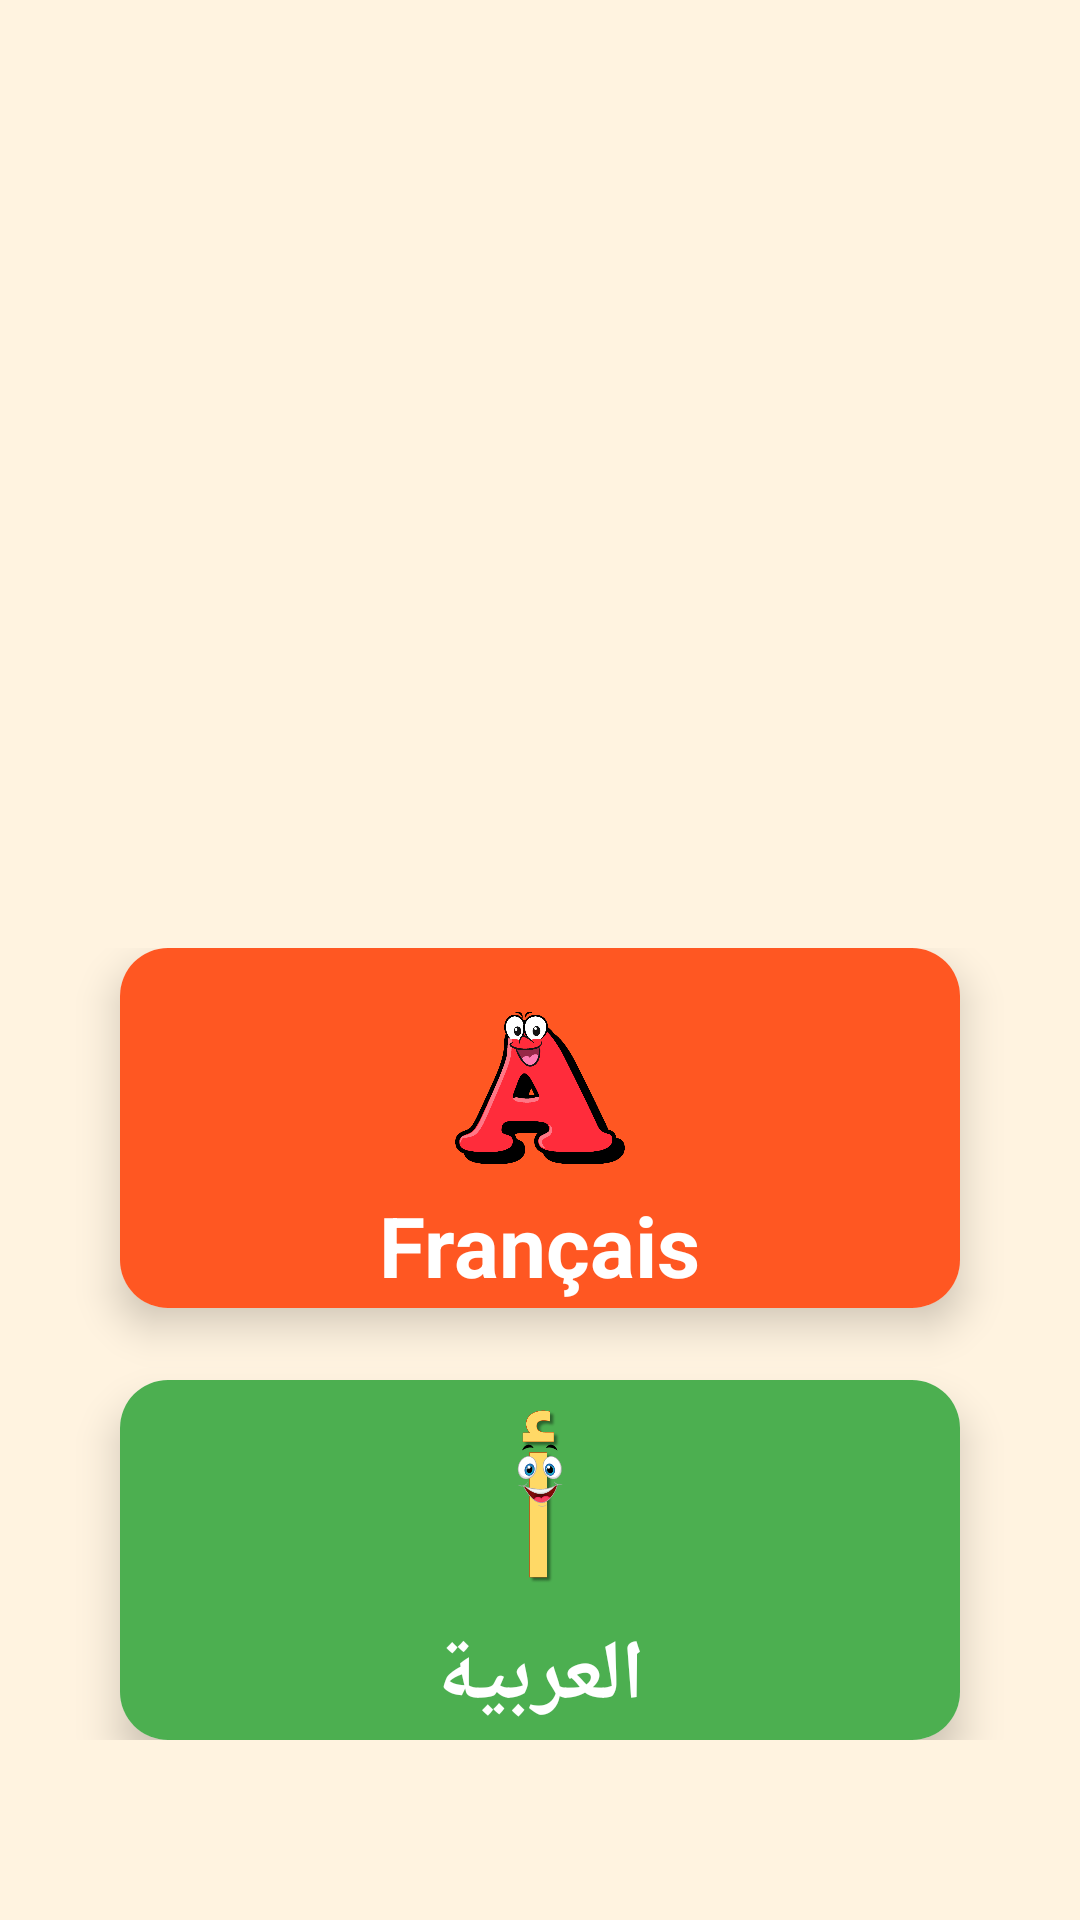

Locate icon controls on the screen. Image size 1080 x 1920, boxes as bbox=(x1, y1, x2, y2).
alif: bbox=(518, 1410, 562, 1581)
